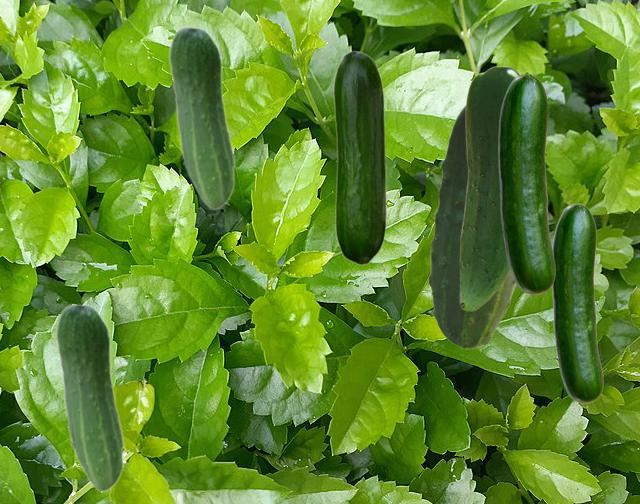cucumber: (428, 103, 517, 348), (459, 66, 519, 310), (55, 302, 124, 491), (168, 25, 235, 209), (498, 74, 554, 293), (333, 50, 386, 264), (551, 203, 602, 402)
